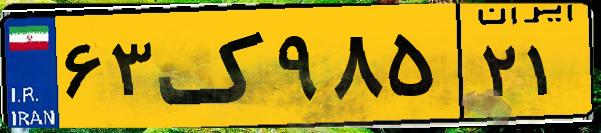1: (525, 38, 570, 115)
2: (475, 38, 525, 113)
3: (110, 28, 158, 98)
5: (385, 28, 445, 110)
6: (57, 26, 110, 100)
8: (330, 28, 385, 110)
9: (270, 28, 330, 110)
ک: (158, 12, 270, 120)
